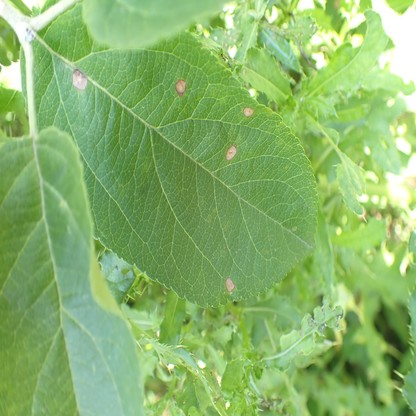frogeye_leaf_spot: (73, 70, 87, 90), (176, 78, 186, 98), (225, 146, 237, 161), (225, 276, 234, 292), (244, 106, 254, 117)
